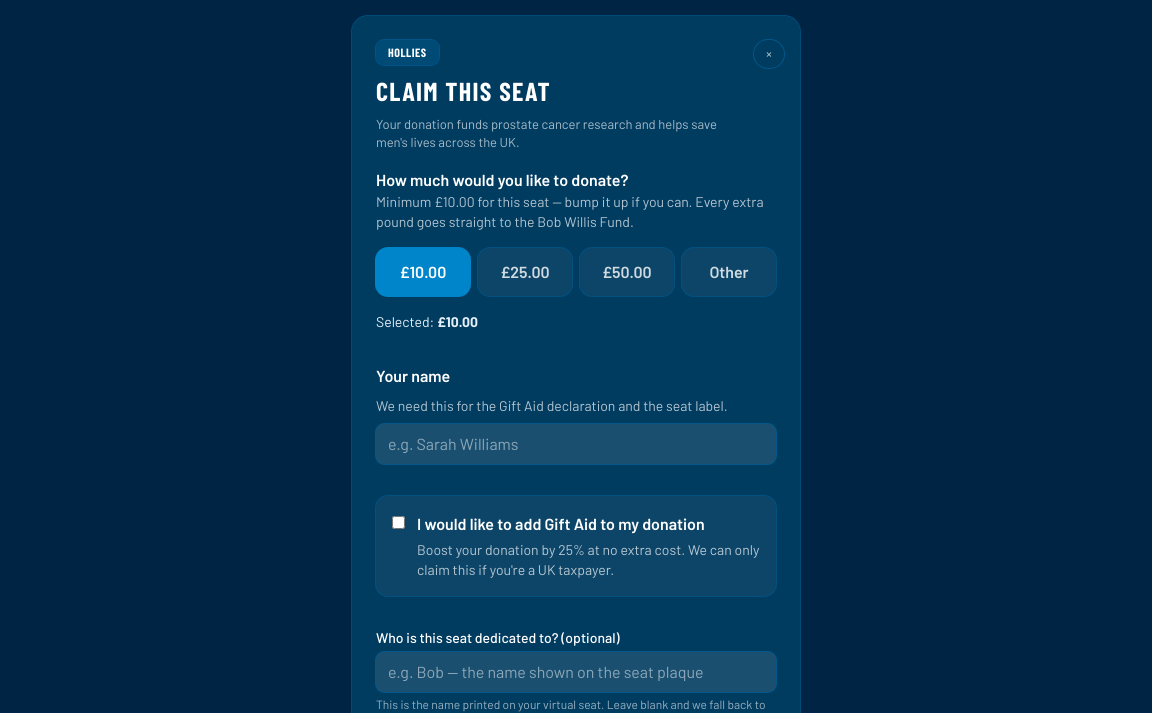
Test: DonateModal › transitions to the payment phase after a valid form submit
Type "Sarah Williams" into the field labelled "Your name" at (576, 444), box [376, 424, 776, 464]
(page scrolled)
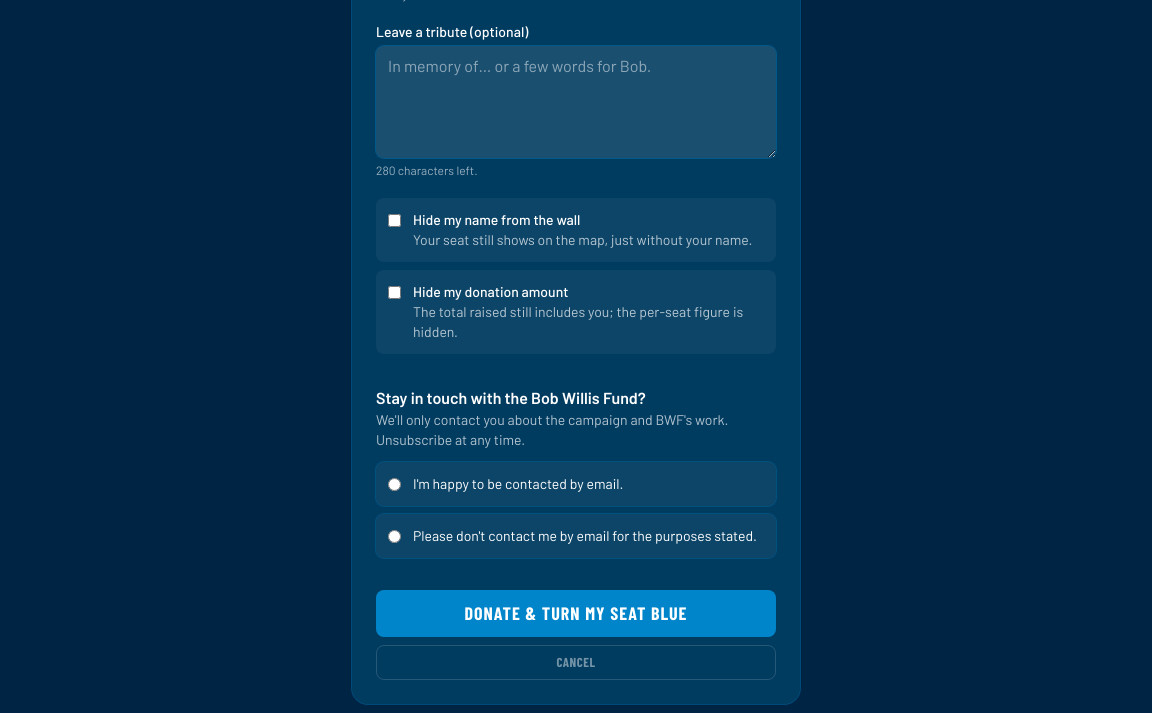
Click the radio button labelled "I'm happy to be contacted by email." at (394, 484), box [388, 478, 401, 491]
(page scrolled)
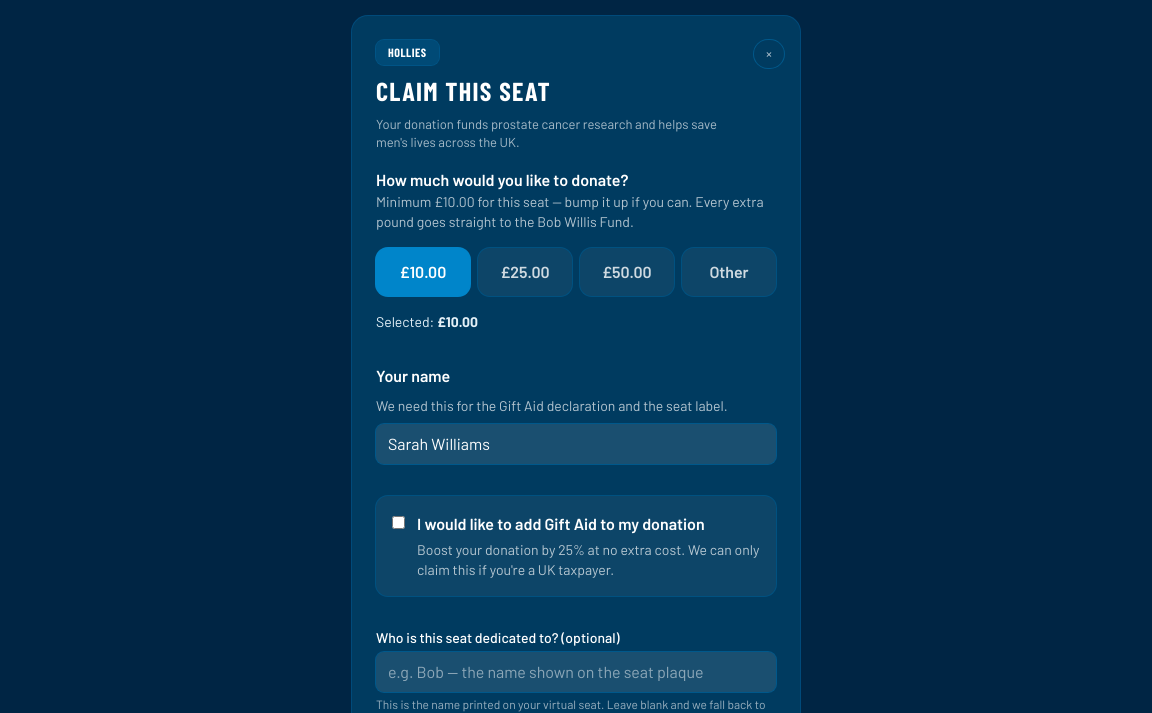
Click the radio button labelled "£25.00" at (525, 272), box [478, 248, 572, 296]
(page scrolled)
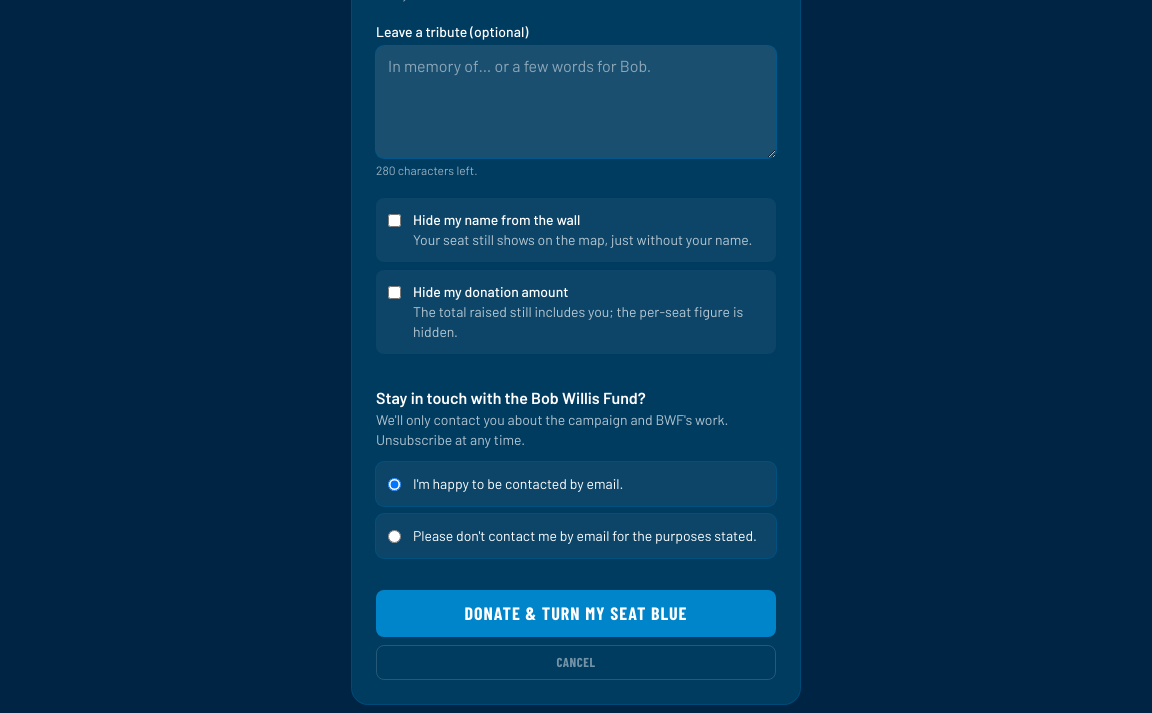
Click the button "Donate & turn my seat blue" at (576, 613), box [376, 590, 776, 636]
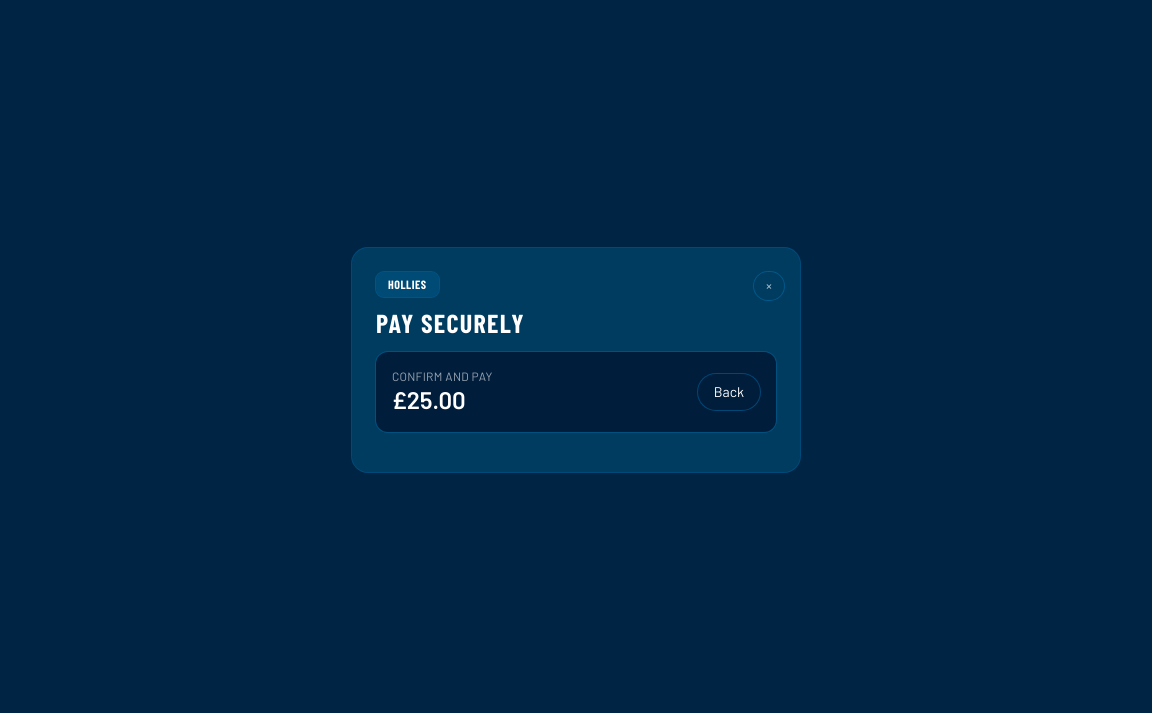
Now the heading "Pay securely" is shown, box [376, 309, 525, 336]
